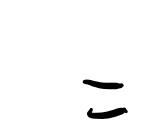eqv: (83, 79, 128, 119)
